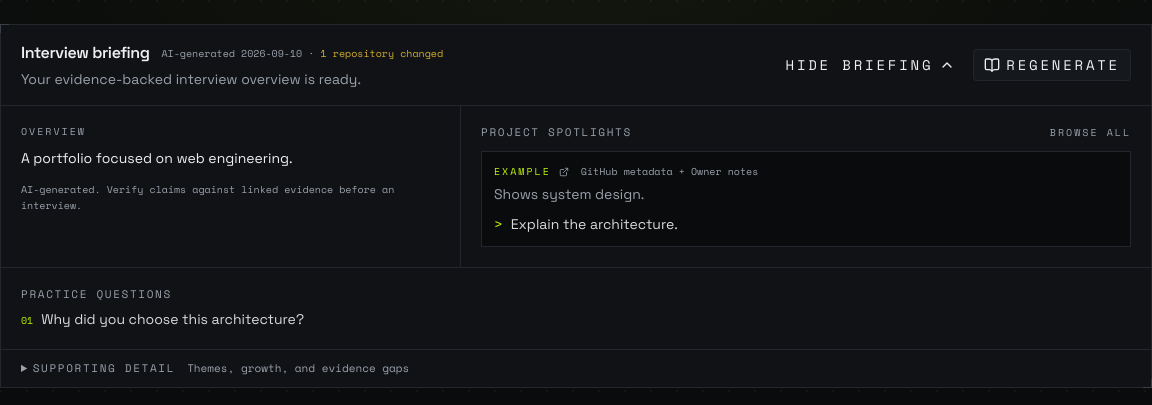
Scenario: renders a persisted briefing expanded with practice questions and collapses on request
Expected: the text "A portfolio focused on web engineering." is shown, [21, 149, 293, 167]
Expected: the text "Recurring themes" is shown, [1, 349, 1151, 387]
Click the button "Hide briefing": click(870, 65) [776, 49, 965, 81]
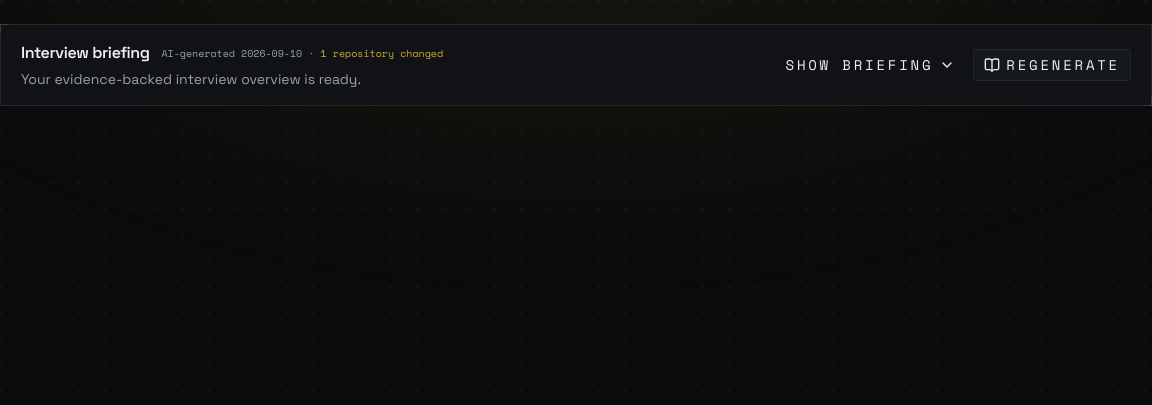
Expected: the button "Regenerate" is shown, [973, 49, 1131, 81]
Expected: the text "A portfolio focused on web engineering." is gone
Expected: the button "Show briefing" is collapsed, [776, 49, 965, 81]
